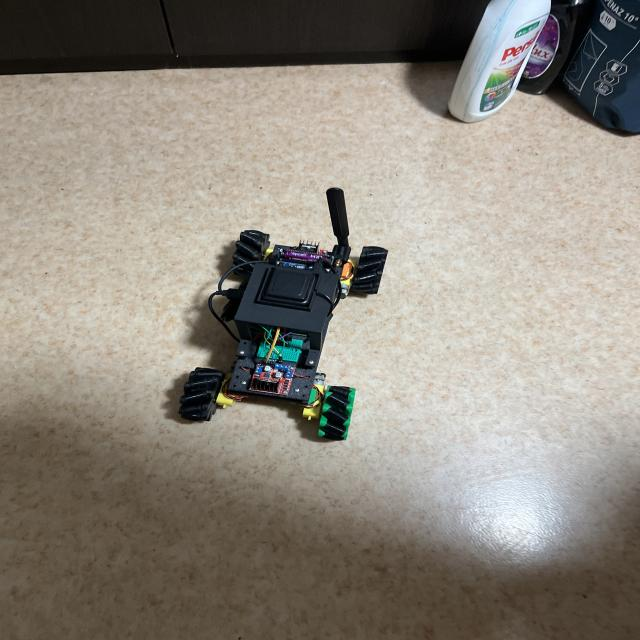robot: (179, 188, 388, 440)
